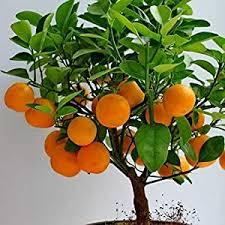orange: (40, 136, 108, 172), (94, 89, 133, 129), (159, 87, 198, 116), (122, 65, 155, 99), (64, 120, 101, 147), (3, 82, 35, 111), (25, 100, 54, 129), (142, 105, 170, 129)
